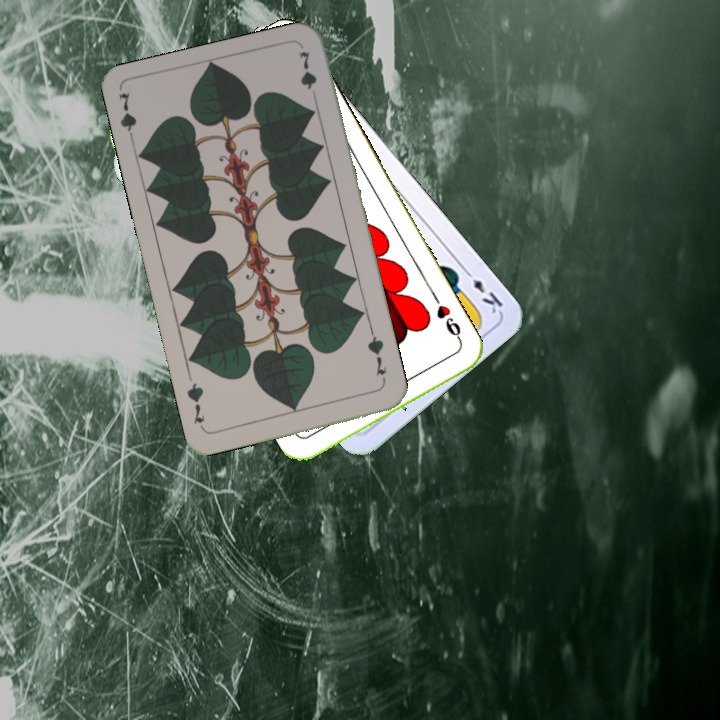EK: (459, 264, 506, 317)
G7: (114, 88, 139, 148), (363, 328, 389, 378)
H9: (430, 293, 465, 347)
